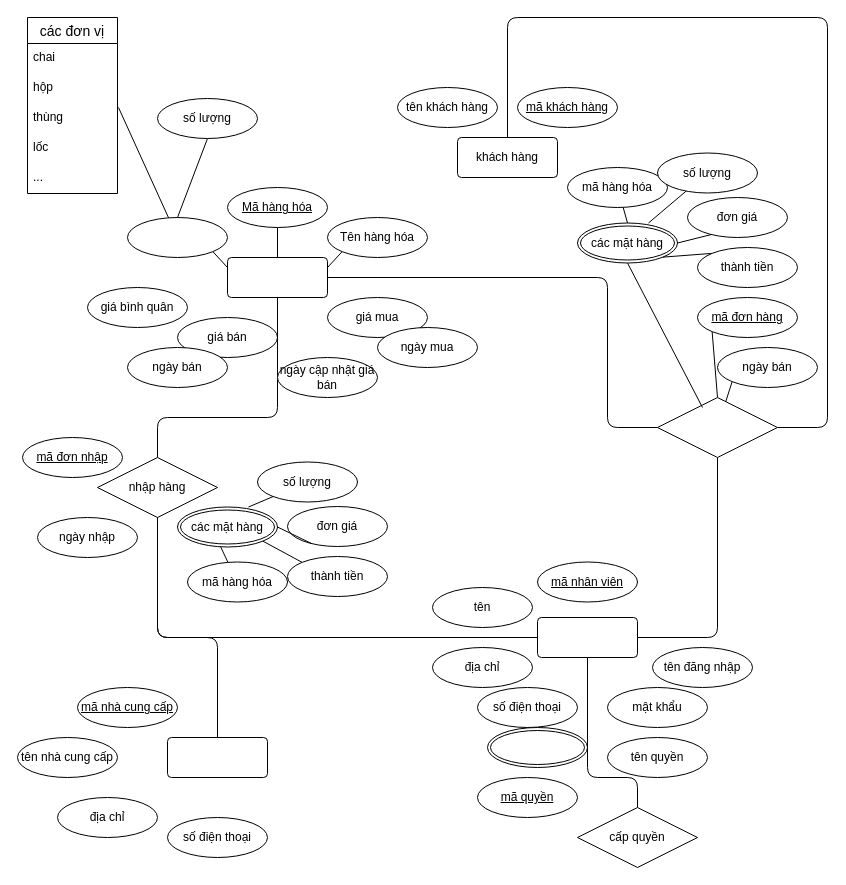
Image size: 846x885. Some labels were removed from this diagram. Each missing label, with the centre of its shape:
"bán hàng" belongs at point 717,427.
"các quyền" belongs at point 537,747.
"Hàng hóa" belongs at point 277,277.
"nhà cung cấp" belongs at point 217,757.
"Nhân viên" belongs at point 587,637.
"Đơn vị" belongs at point 177,237.
